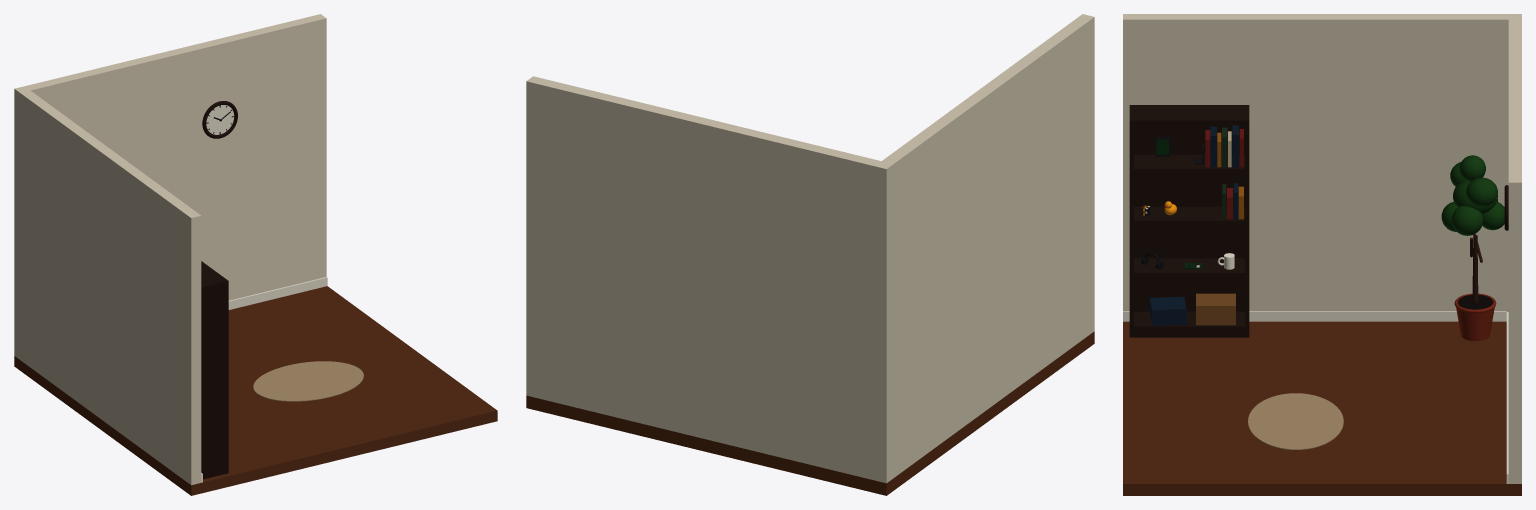
The model's file is habitacion-programador.obj.
The picture shows the model from 3 angles, left to right: view 1: azimuth 30°, elevation 25°; view 2: azimuth 150°, elevation 25°; view 3: azimuth 270°, elevation 25°; orthographic projection. The views are drawn at different scales.
Visible parts, largest first — view 1: pared_izquierda, pared_fondo, suelo, estanteria_lateral_2, alfombra, rodapie_fondo, reloj_cara; view 2: pared_fondo, pared_izquierda, suelo; view 3: pared_izquierda, suelo, estanteria_trasera, pared_fondo, alfombra, rodapie_izquierdo, estanteria_techo, estanteria_base, estanteria_balda_1, estanteria_balda_3, estanteria_balda_2, caja_1 (+10 smaller).
Boxes of the visible parts, bbox=[...] form: pared_izquierda: bbox=[14, 86, 201, 485]; pared_fondo: bbox=[25, 14, 326, 300]; suelo: bbox=[14, 286, 497, 495]; estanteria_lateral_2: bbox=[201, 279, 228, 479]; alfombra: bbox=[253, 361, 363, 401]; rodapie_fondo: bbox=[228, 277, 327, 309]; reloj_cara: bbox=[206, 105, 234, 134]; pared_fondo: bbox=[526, 76, 880, 480]; pared_izquierda: bbox=[874, 14, 1094, 483]; suelo: bbox=[526, 331, 1094, 495]; pared_izquierda: bbox=[1123, 14, 1521, 311]; suelo: bbox=[1123, 321, 1521, 495]; estanteria_trasera: bbox=[1131, 105, 1245, 311]; pared_fondo: bbox=[1508, 19, 1521, 483]; alfombra: bbox=[1248, 393, 1343, 449]; rodapie_izquierdo: bbox=[1123, 311, 1506, 321]; estanteria_techo: bbox=[1130, 105, 1248, 124]; estanteria_base: bbox=[1133, 311, 1245, 337]; estanteria_balda_1: bbox=[1133, 258, 1245, 275]; estanteria_balda_3: bbox=[1133, 154, 1245, 172]; estanteria_balda_2: bbox=[1133, 206, 1245, 223]; caja_1: bbox=[1196, 293, 1235, 325].
Bounding box in the file's own units: 3 × 2.6 × 3.
